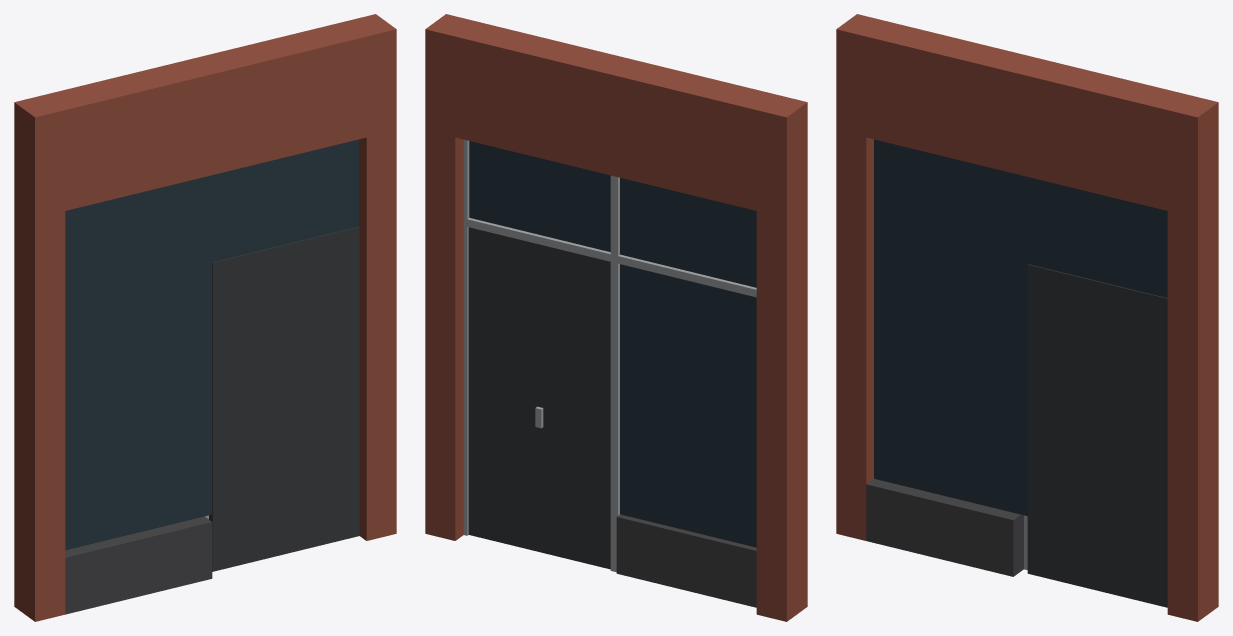
The model's file is fk_entry_g40.glb.
The picture shows the model from 3 angles, left to right: view 1: azimuth 30°, elevation 25°; view 2: azimuth 150°, elevation 25°; view 3: azimuth 330°, elevation 25°; orthographic projection.
Parts seen in each view (by area): view 1: fk_entry_g40-col; view 2: fk_entry_g40-col; view 3: fk_entry_g40-col.
Boxes of the visible parts, bbox=[...] form: fk_entry_g40-col: bbox=[14, 14, 396, 621]; fk_entry_g40-col: bbox=[425, 14, 807, 621]; fk_entry_g40-col: bbox=[836, 14, 1218, 621].
Bounding box in the file's own units: 3 × 4 × 0.3.
